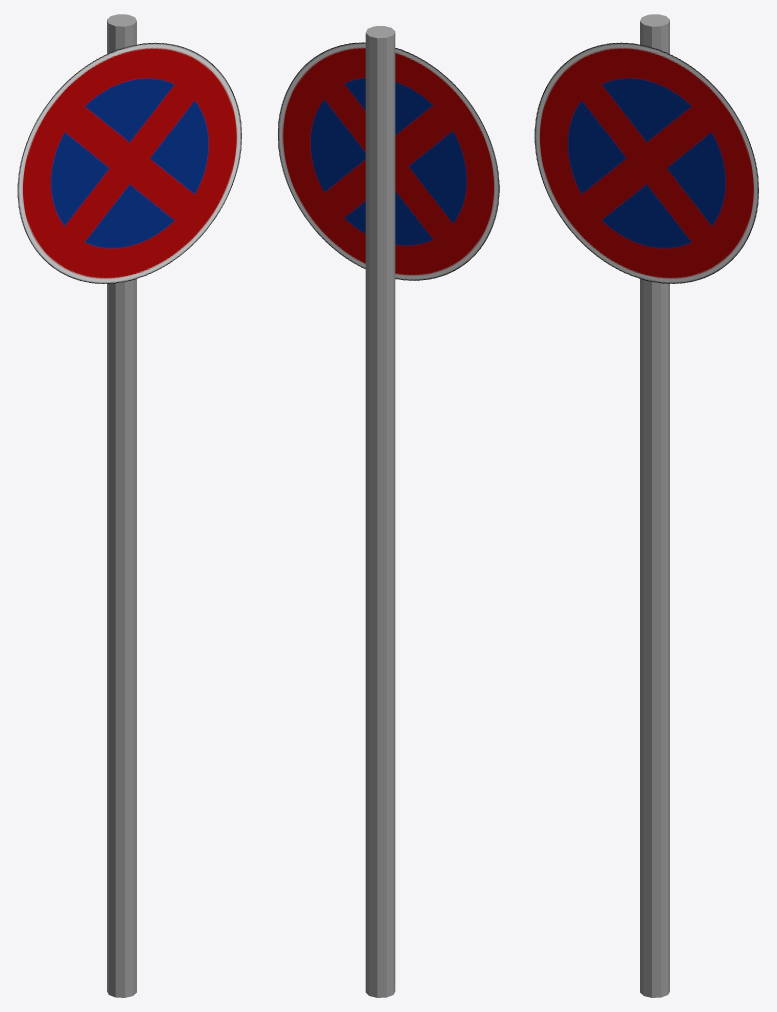
The model's file is parkverbot_sign 1.fbx.
3 views of the same model, side by side, from view 1: azimuth 30°, elevation 25°; view 2: azimuth 150°, elevation 25°; view 3: azimuth 330°, elevation 25° (orthographic).
Visible parts, largest first — view 1: pPlane1, pCylinder1; view 2: pPlane1, pCylinder1; view 3: pPlane1, pCylinder1.
Part boxes in pixels (x1=…): pPlane1: x1=17, y1=42, x2=241, y2=283; pCylinder1: x1=107, y1=14, x2=136, y2=997; pPlane1: x1=278, y1=42, x2=499, y2=280; pCylinder1: x1=365, y1=26, x2=395, y2=997; pPlane1: x1=534, y1=42, x2=758, y2=283; pCylinder1: x1=640, y1=14, x2=669, y2=997.
Size of the model in its own units: 1 by 4.01 by 0.1145.
Materials: 2 (1 with a texture image).
